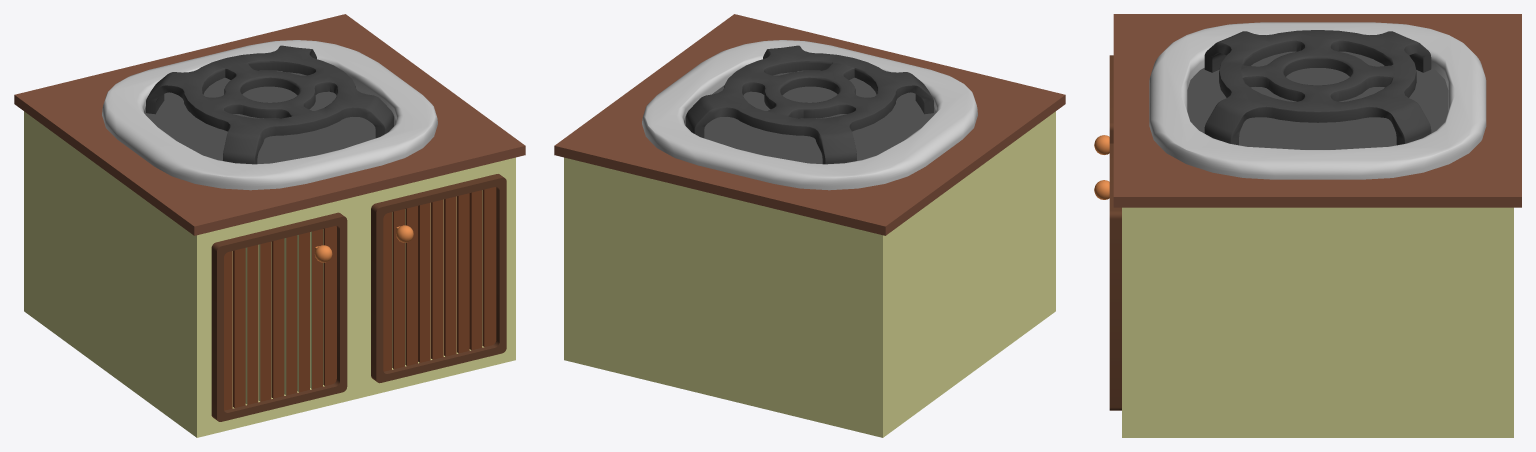
Rendered from CookingStation3D.fbx.
3 renders of one model, left to right at view 1: azimuth 30°, elevation 25°; view 2: azimuth 150°, elevation 25°; view 3: azimuth 270°, elevation 25°, orthographic. The views are drawn at different scales.
Parts seen in each view (by area): view 1: CookingStation3D; view 2: CookingStation3D; view 3: CookingStation3D.
Boxes of the visible parts, x1,y1,x2,y2 form: CookingStation3D: (14, 14, 525, 437); CookingStation3D: (554, 14, 1065, 437); CookingStation3D: (1094, 14, 1521, 437).
Bounding box in the file's own units: 336 × 239 × 332.
